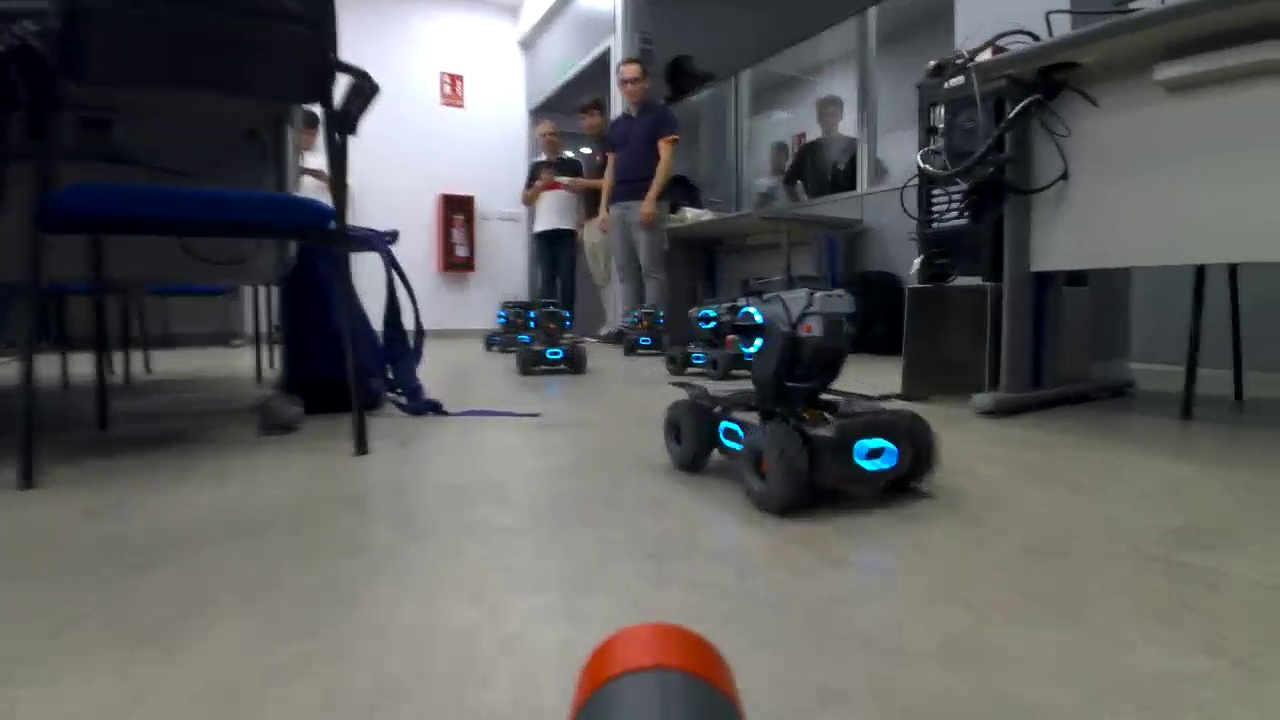robot: (657, 278, 949, 510), (664, 300, 771, 378), (513, 296, 594, 377), (477, 294, 535, 357), (621, 301, 671, 361)
